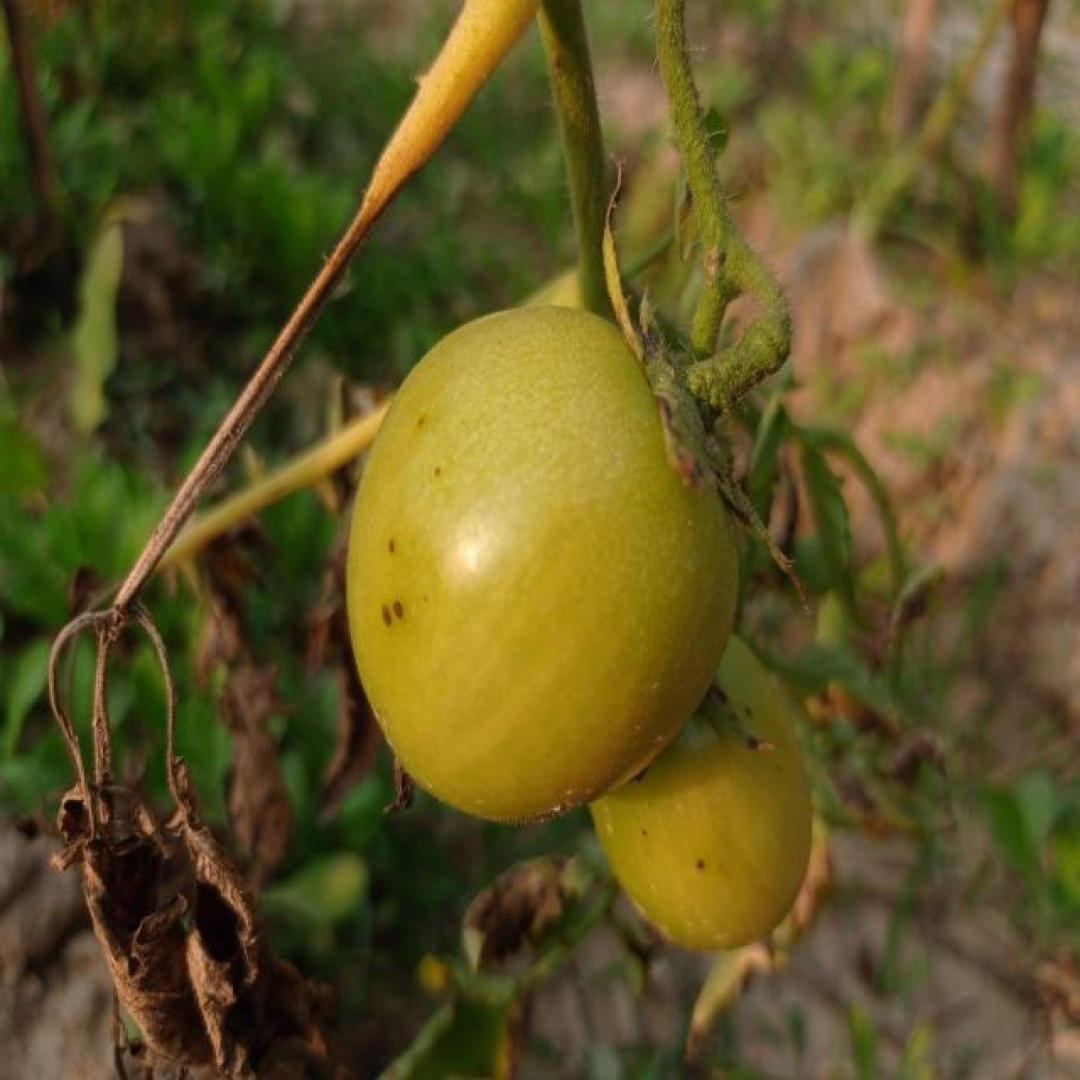setengah_matang: (344, 302, 744, 824), (579, 612, 815, 954)
